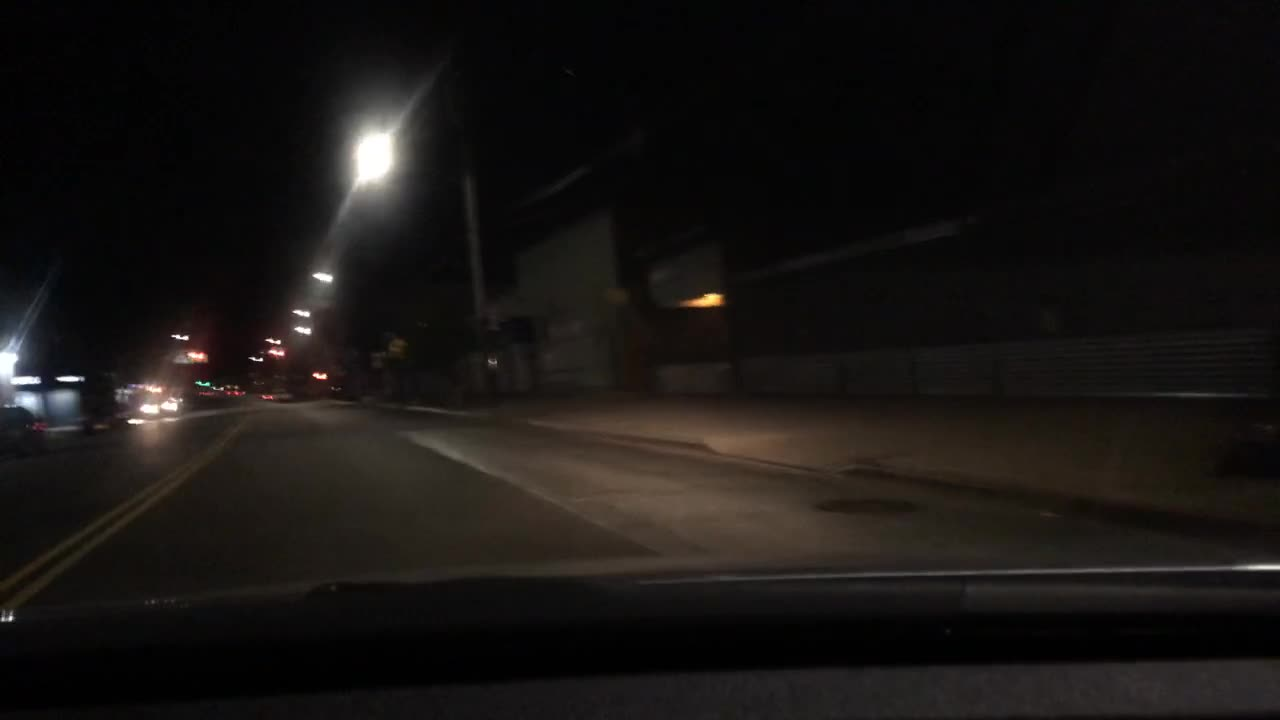car: (0, 403, 47, 463), (81, 402, 132, 432), (159, 397, 187, 417), (137, 397, 159, 416), (224, 388, 247, 397), (197, 389, 217, 397), (259, 394, 272, 400)
